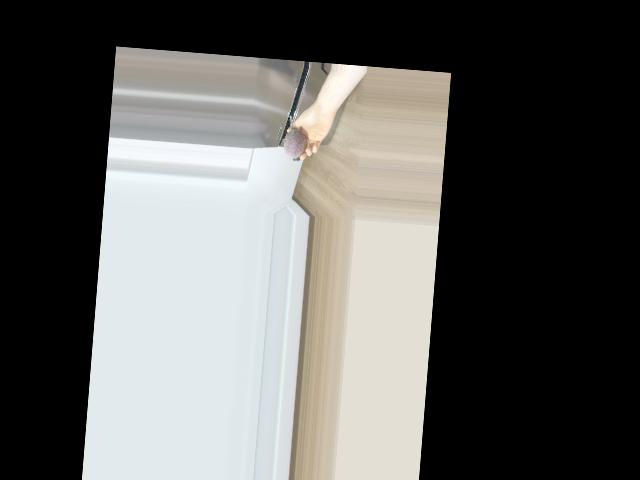beet: (283, 116, 307, 162)
